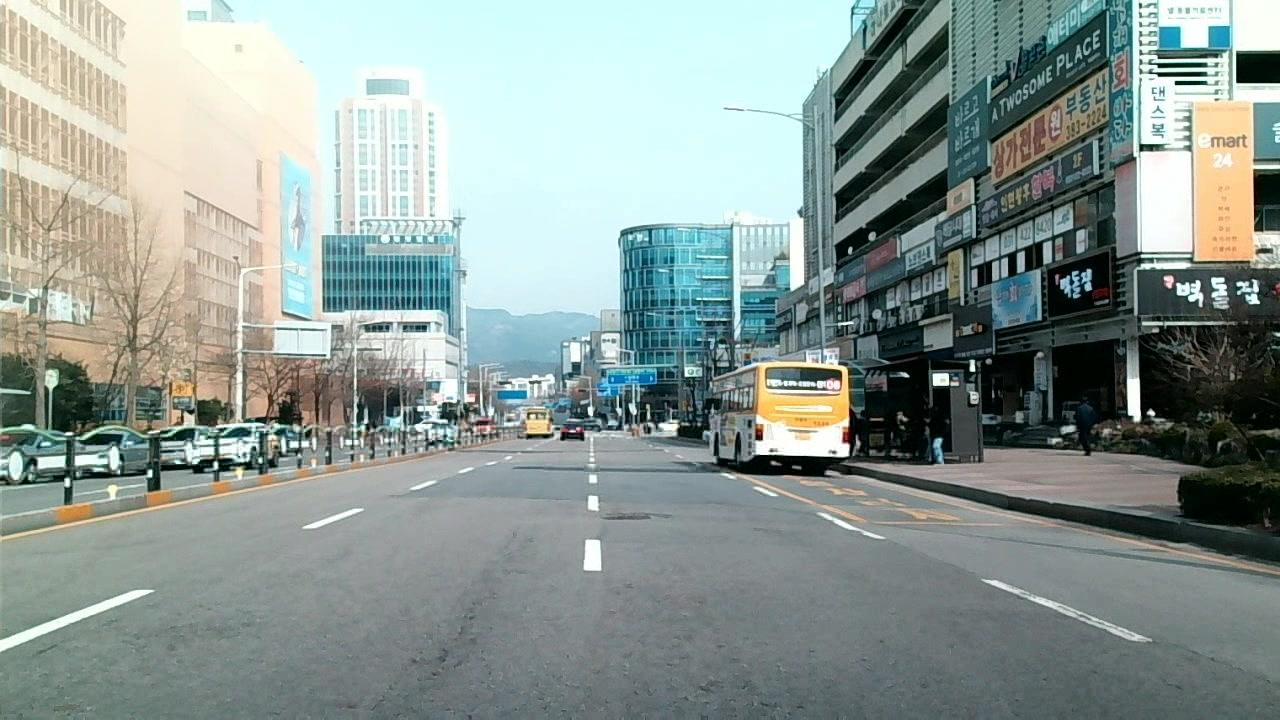erosion: (396, 578, 492, 707)
